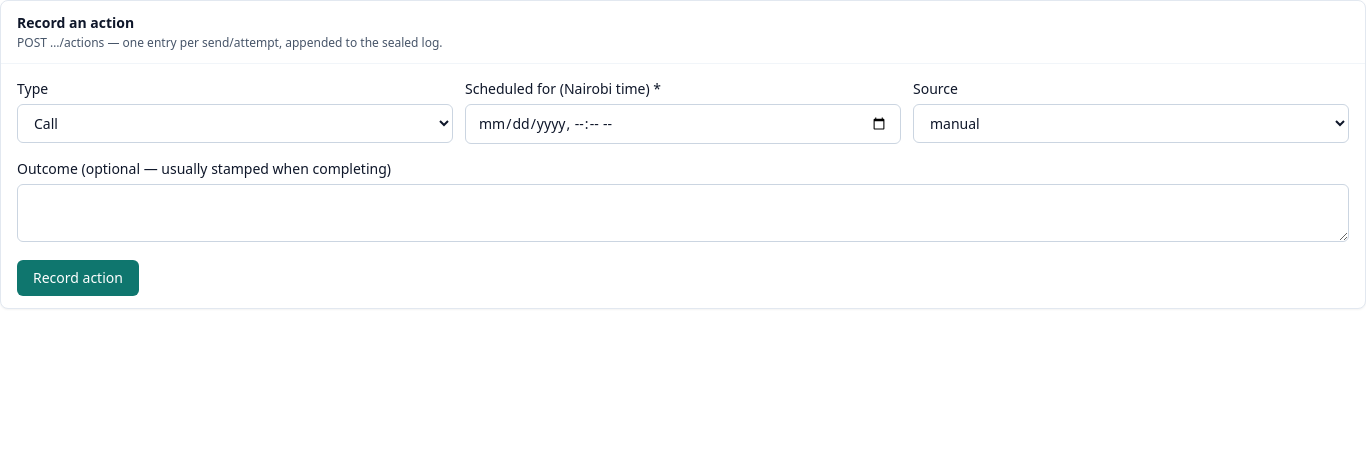
Test case: CaseRecordActionPanel submission › surfaces 409 CASE_CLOSED when the log was sealed in a race
Type "2026-09-02T09:00" into the field labelled "Scheduled for (Nairobi time) *" at (683, 124), box [465,104,901,144]
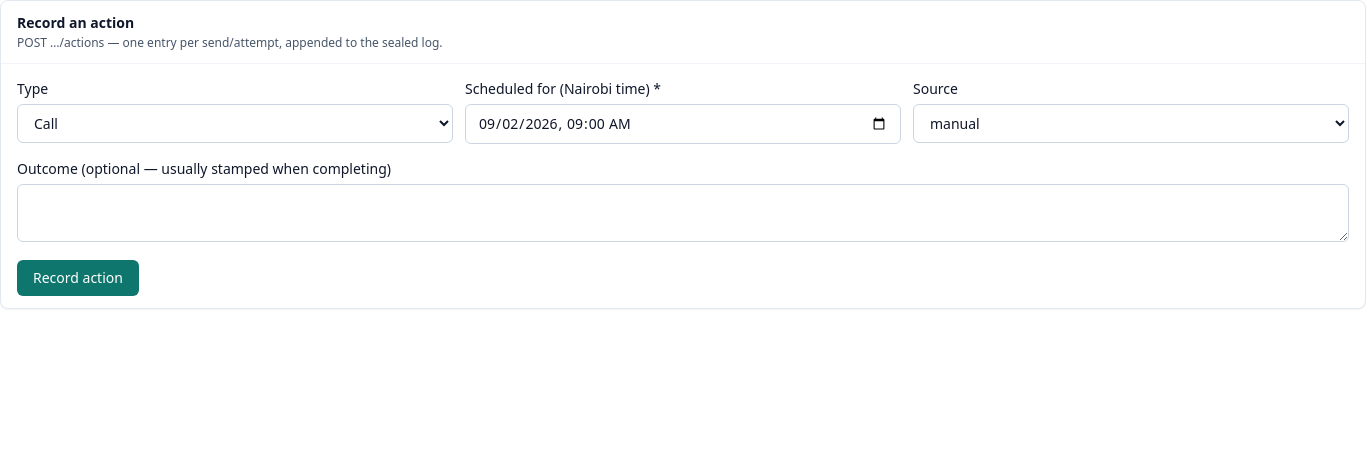
Click the button "Record action" at (78, 278), box [17,260,139,296]
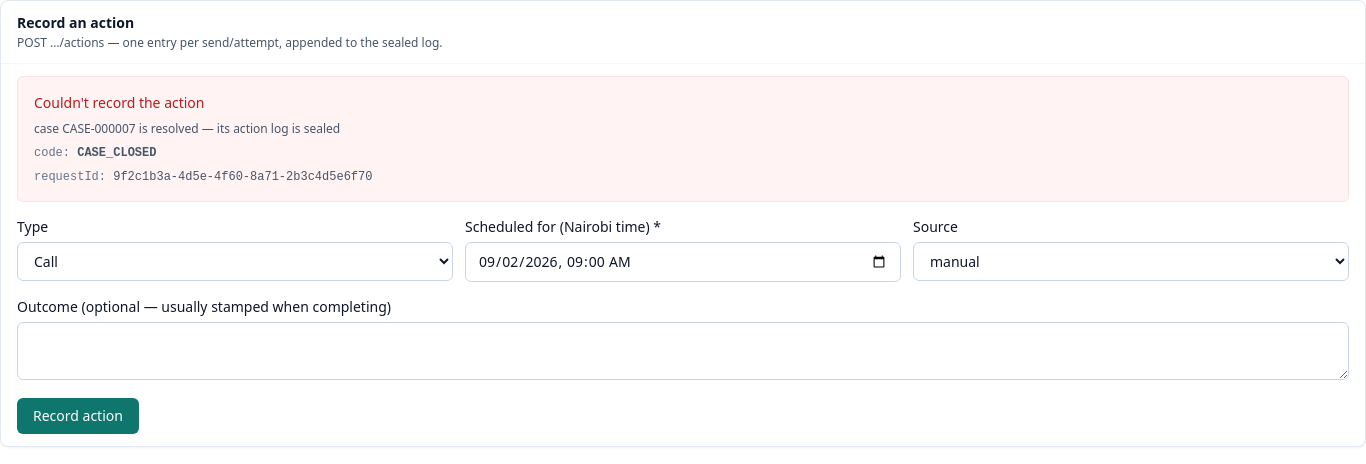
Now the message shows "code: CASE_CLOSED", box [17,76,1349,202]
Now the message shows "9f2c1b3a-4d5e-4f60-8a71-2b3c4d5e6f70", box [113,170,372,184]
